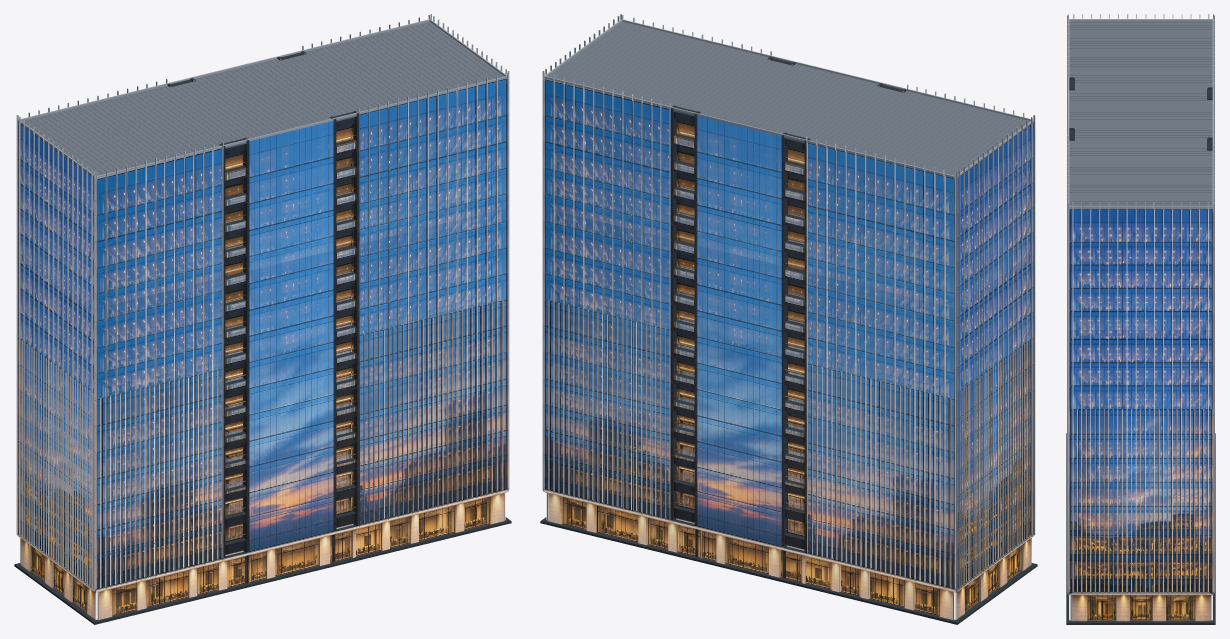
Rendered from privilon-sm.glb.
The picture shows the model from 3 angles, left to right: view 1: azimuth 30°, elevation 25°; view 2: azimuth 150°, elevation 25°; view 3: azimuth 270°, elevation 25°; orthographic projection. The views are drawn at different scales.
Parts seen in each view (by area): view 1: SM_PrivilonMumbai; view 2: SM_PrivilonMumbai; view 3: SM_PrivilonMumbai.
Part boxes in pixels (box(x1,y1,x2,y2)): SM_PrivilonMumbai: box(14, 14, 511, 624); SM_PrivilonMumbai: box(540, 14, 1037, 624); SM_PrivilonMumbai: box(1066, 14, 1215, 624).
Size of the model in its own units: 67.3 by 69.66 by 22.4.
7 materials, 2 textured.
